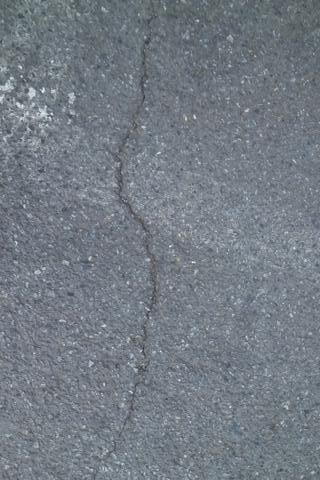A: (92, 28, 160, 478)
